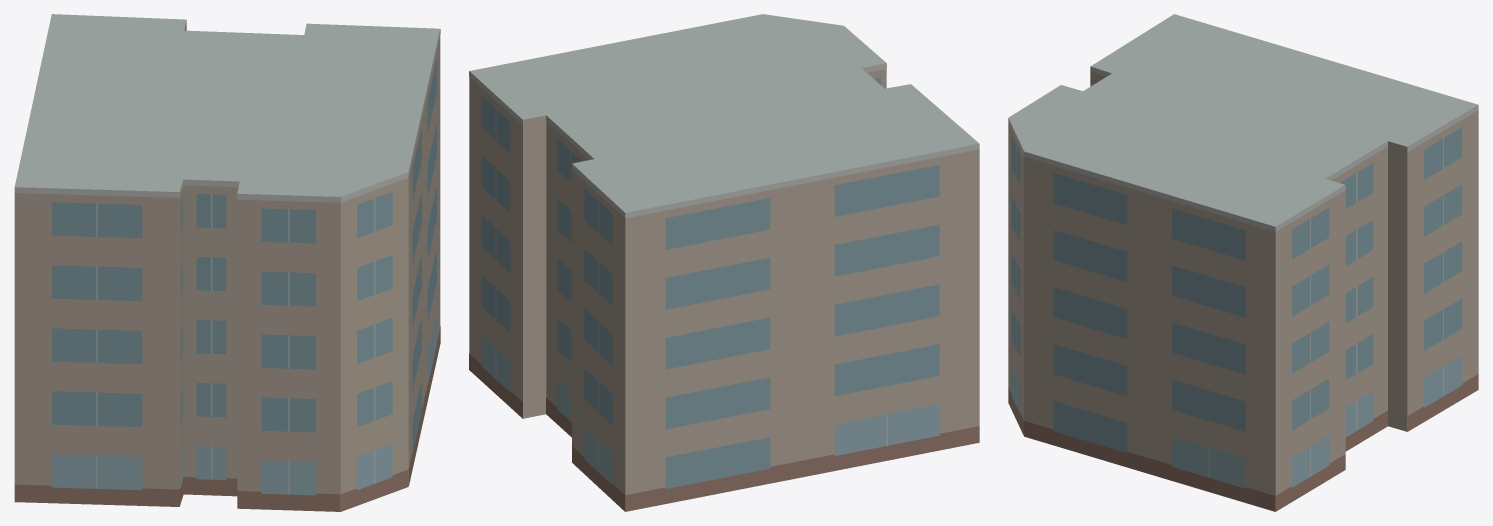
The model's file is survey-upis-32749493.glb.
3 renders of one model, left to right at view 1: azimuth 30°, elevation 25°; view 2: azimuth 150°, elevation 25°; view 3: azimuth 270°, elevation 25°, orthographic. The views are drawn at different scales.
Parts seen in each view (by area): view 1: survey-upis-32749493.tmp; view 2: survey-upis-32749493.tmp; view 3: survey-upis-32749493.tmp.
Boxes of the visible parts, x1,y1,x2,y2 form: survey-upis-32749493.tmp: (14,14,440,511); survey-upis-32749493.tmp: (469,14,979,511); survey-upis-32749493.tmp: (1008,14,1478,511).
Size of the model in its own units: 20.98 by 13.1 by 19.59.
